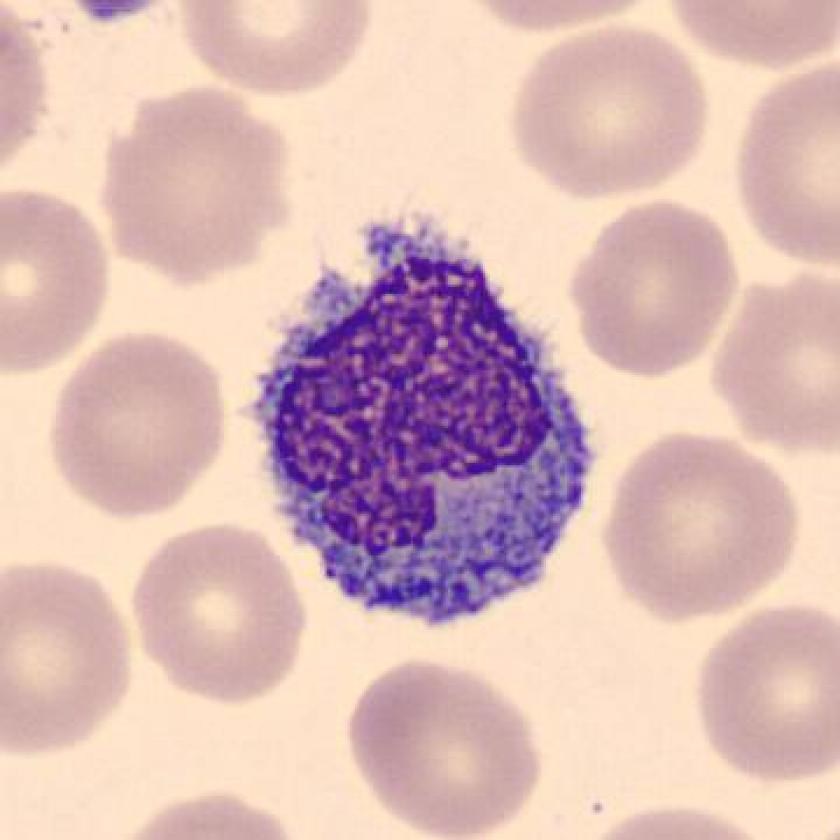monocyte: (225, 200, 612, 635)
